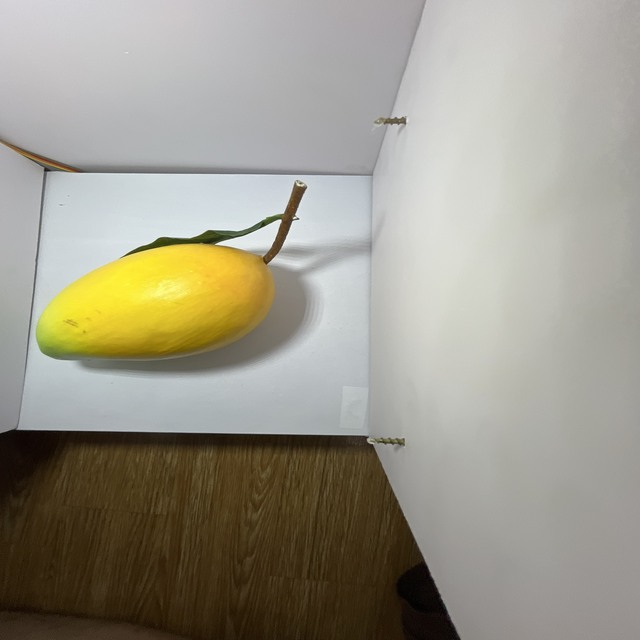Xoai: (29, 239, 288, 369)
